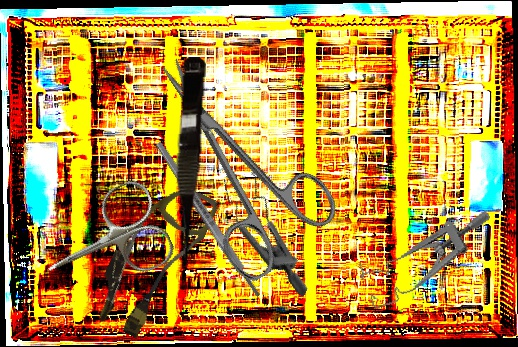Cannula: (85, 171, 221, 346)
Iris Scissors: (121, 28, 349, 287), (29, 175, 179, 310)
Micro Scissor: (168, 56, 207, 269)
Scalpel Handle: (154, 139, 263, 300)
Speculum: (193, 156, 348, 297), (351, 207, 507, 312)
